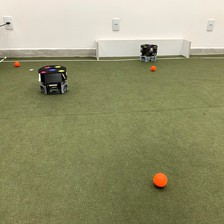ball: (149, 169, 170, 188), (11, 58, 21, 68), (148, 63, 158, 71)
goal: (92, 35, 193, 63)
robot: (35, 62, 70, 97), (137, 41, 161, 63)
